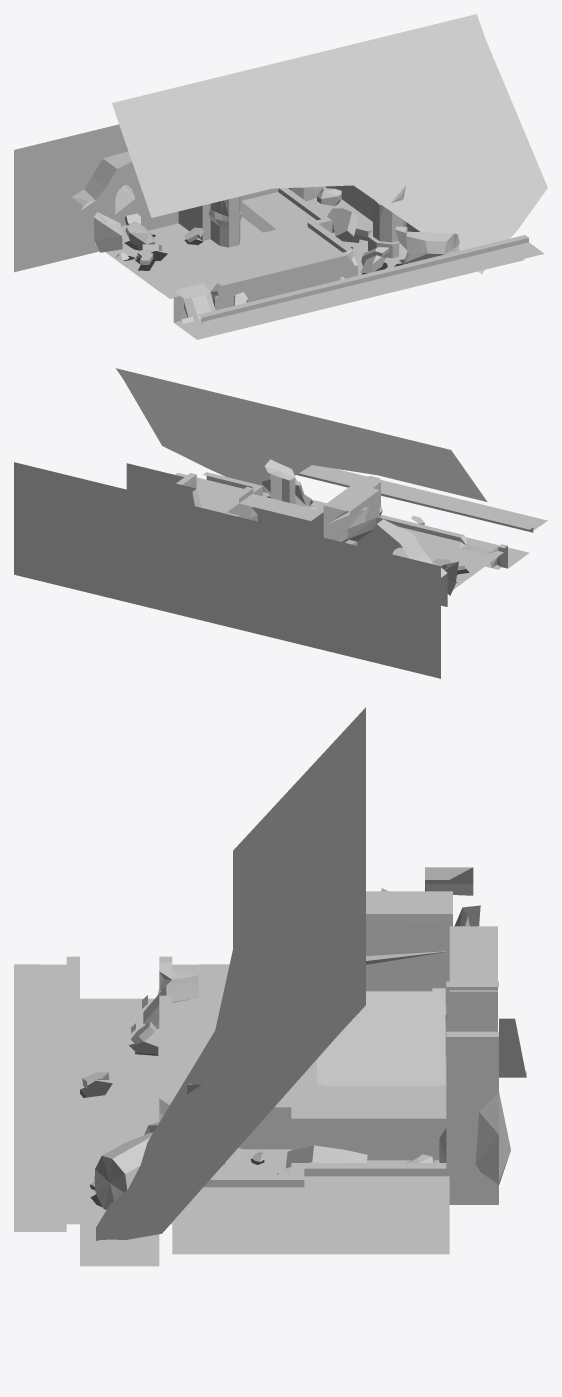
File: NCASTLE1-2-1.obj
The picture shows the model from 3 angles, top to bottom: view 1: azimuth 30°, elevation 25°; view 2: azimuth 150°, elevation 25°; view 3: azimuth 270°, elevation 25°; orthographic projection. The views are drawn at different scales.
Parts seen in each view (by area): view 1: in39_ray03_lay0_QUADS_VisGroup0, n_kabe3_lay0_QUADS_VisGroup0, in39_ray03_lay0_TRIS_VisGroup0, n_yuka1_lay0_QUADS_VisGroup0, n_kon2_lay0_QUADS_VisGroup0, n_fuch3_lay0_QUADS_VisGroup0, n_kon_lay0_QUADS_VisGroup0, in39_yuka3_lay0_TRIS_VisGroup0, in39_yuka3_lay0_QUADS_VisGroup0, n_04_2_lay0_QUADS_VisGroup0, n_colum_a_lay0_QUADS_VisGroup0, n_yuka1_lay0_TRIS_VisGroup0 (+10 smaller); view 2: n_kabe3_lay0_QUADS_VisGroup0, in39_ray03_lay0_QUADS_VisGroup0, n_04_2_lay0_QUADS_VisGroup0, in39_ray03_lay0_TRIS_VisGroup0, n_yuka1_lay0_QUADS_VisGroup0, n_kon_lay0_QUADS_VisGroup0, n_kabe_lay0_QUADS_VisGroup0, n_fuch3_lay0_QUADS_VisGroup0, in39_yuka3_lay0_QUADS_VisGroup0, n_kon2_lay0_QUADS_VisGroup0, n_kabe_lay0_TRIS_VisGroup0, n_colum_a_lay0_QUADS_VisGroup0 (+1 smaller); view 3: in39_ray03_lay0_QUADS_VisGroup0, n_yuka1_lay0_QUADS_VisGroup0, n_04_2_lay0_QUADS_VisGroup0, n_kon_lay0_QUADS_VisGroup0, n_fuch3_lay0_QUADS_VisGroup0, n_kon2_lay0_QUADS_VisGroup0, in39_ray03_lay0_TRIS_VisGroup0, n_kaidan_lay0_QUADS_VisGroup0, in39_yuka3_lay0_QUADS_VisGroup0, in39_hokori1_lay0_QUADS_VisGroup0, in39_yuka3_lay0_TRIS_VisGroup0, n_tenjyo_lay0_QUADS_VisGroup0 (+6 smaller).
Part boxes in pixels (<box>): in39_ray03_lay0_QUADS_VisGroup0: <box>112,14,547,273</box>; n_kabe3_lay0_QUADS_VisGroup0: <box>14,124,240,272</box>; in39_ray03_lay0_TRIS_VisGroup0: <box>358,38,547,187</box>; n_yuka1_lay0_QUADS_VisGroup0: <box>118,200,544,333</box>; n_kon2_lay0_QUADS_VisGroup0: <box>173,185,528,323</box>; n_fuch3_lay0_QUADS_VisGroup0: <box>94,192,536,327</box>; n_kon_lay0_QUADS_VisGroup0: <box>170,188,528,317</box>; in39_yuka3_lay0_TRIS_VisGroup0: <box>72,184,428,320</box>; in39_yuka3_lay0_QUADS_VisGroup0: <box>71,151,409,306</box>; n_04_2_lay0_QUADS_VisGroup0: <box>174,186,524,339</box>; n_colum_a_lay0_QUADS_VisGroup0: <box>360,186,453,272</box>; n_yuka1_lay0_TRIS_VisGroup0: <box>105,232,196,261</box>; n_kabe3_lay0_QUADS_VisGroup0: <box>14,462,449,678</box>; in39_ray03_lay0_QUADS_VisGroup0: <box>115,368,487,501</box>; n_04_2_lay0_QUADS_VisGroup0: <box>182,477,529,569</box>; in39_ray03_lay0_TRIS_VisGroup0: <box>123,379,239,445</box>; n_yuka1_lay0_QUADS_VisGroup0: <box>196,465,547,586</box>; n_kon_lay0_QUADS_VisGroup0: <box>176,471,532,548</box>; n_kabe_lay0_QUADS_VisGroup0: <box>126,463,457,577</box>; n_fuch3_lay0_QUADS_VisGroup0: <box>175,468,539,557</box>; in39_yuka3_lay0_QUADS_VisGroup0: <box>192,485,464,595</box>; n_kon2_lay0_QUADS_VisGroup0: <box>206,473,533,568</box>; n_kabe_lay0_TRIS_VisGroup0: <box>252,507,457,606</box>; n_colum_a_lay0_QUADS_VisGroup0: <box>261,468,316,509</box>; in39_ray03_lay0_QUADS_VisGroup0: <box>96,707,365,1240</box>; n_yuka1_lay0_QUADS_VisGroup0: <box>14,964,426,1254</box>; n_04_2_lay0_QUADS_VisGroup0: <box>80,891,497,1266</box>; n_kon_lay0_QUADS_VisGroup0: <box>66,956,498,1224</box>; n_fuch3_lay0_QUADS_VisGroup0: <box>40,964,449,1254</box>; n_kon2_lay0_QUADS_VisGroup0: <box>203,1107,498,1204</box>; in39_ray03_lay0_TRIS_VisGroup0: <box>162,932,337,1232</box>; n_kaidan_lay0_QUADS_VisGroup0: <box>325,991,439,1086</box>; in39_yuka3_lay0_QUADS_VisGroup0: <box>94,867,526,1186</box>; in39_hokori1_lay0_QUADS_VisGroup0: <box>85,1050,398,1199</box>; in39_yuka3_lay0_TRIS_VisGroup0: <box>91,887,509,1186</box>; n_tenjyo_lay0_QUADS_VisGroup0: <box>82,1022,367,1174</box>.
Bounding box in the file's own units: 544 × 222 × 324.
